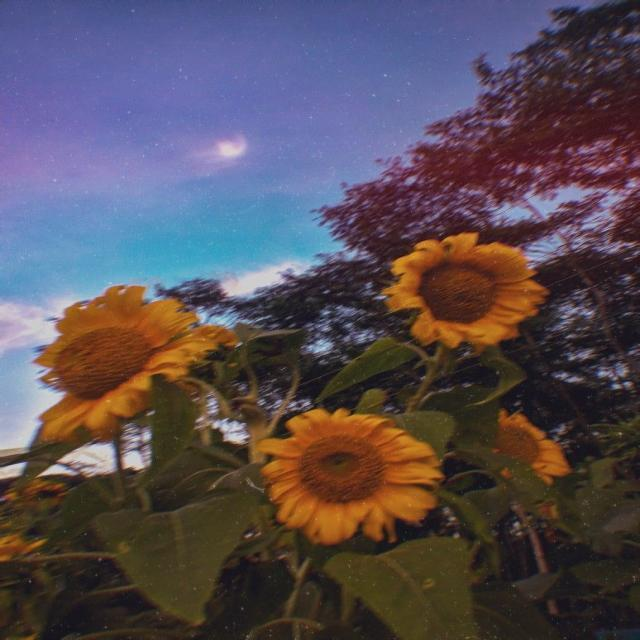sunflower: (31, 284, 234, 444), (255, 406, 445, 546), (381, 230, 549, 354), (490, 408, 572, 487)
